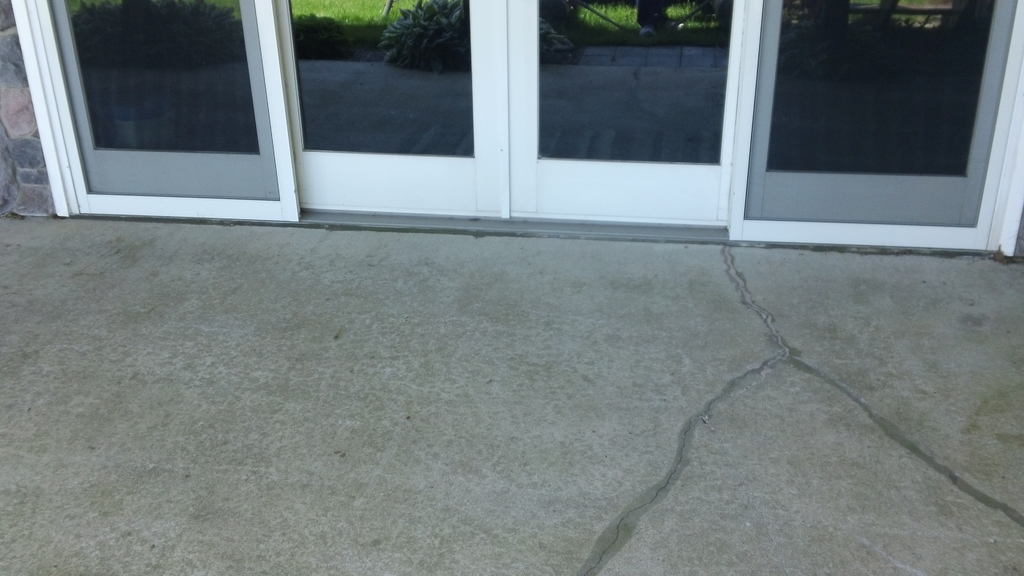door: (510, 10, 732, 226), (298, 4, 503, 212)
